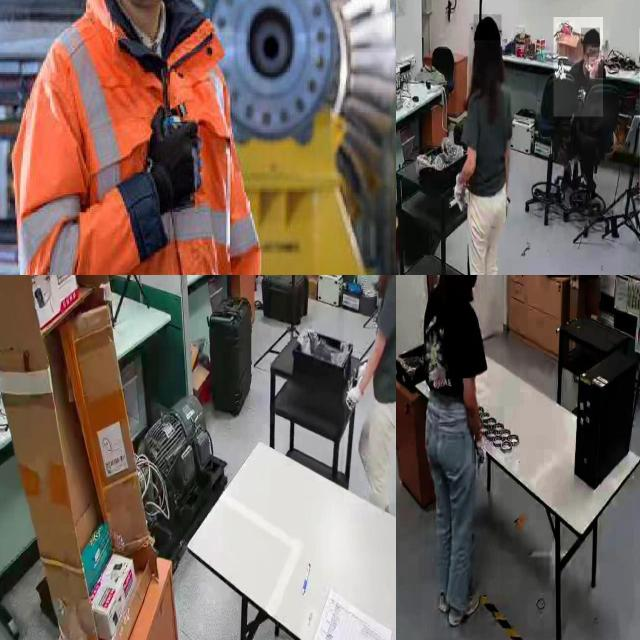hand_glove: (118, 108, 200, 259), (450, 171, 468, 216), (346, 381, 365, 417), (472, 433, 492, 464), (356, 357, 370, 382)
hand_noglove: (589, 57, 599, 77)
head_nohelmet: (474, 14, 502, 41), (581, 28, 600, 44)
person: (421, 275, 501, 638), (446, 7, 516, 275), (344, 275, 396, 504), (554, 17, 604, 117)
shoes: (447, 584, 481, 632)
